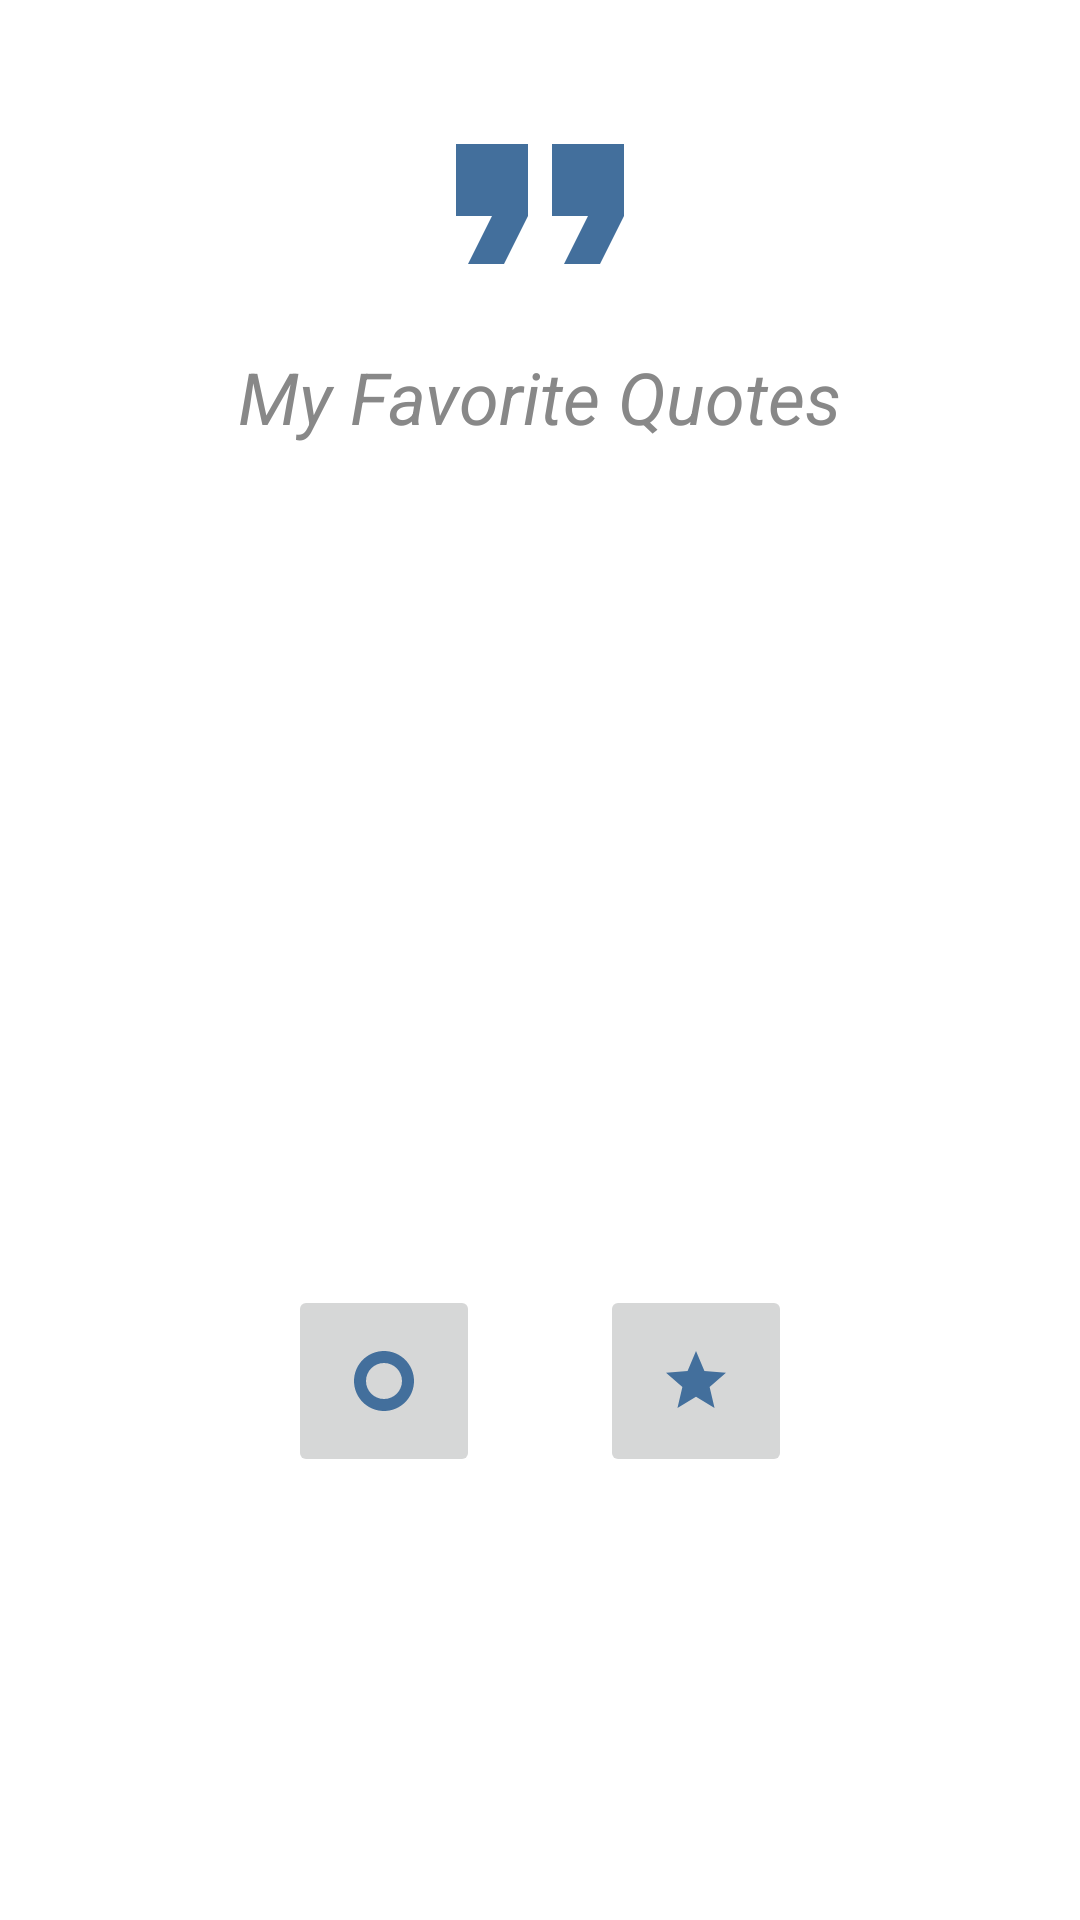

Where icons sit on this 1080px x 1920px app screen, as (x1, y1, x2, y2):
favorite: (612, 1303, 780, 1459)
